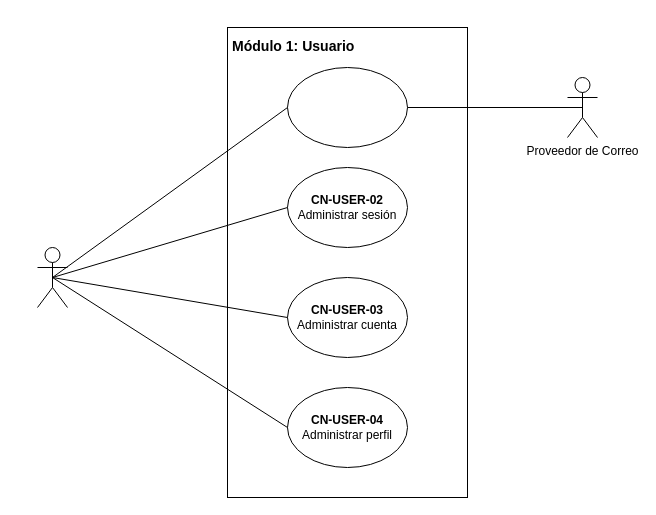
Some shapes in this 656 by 515 pixel diagram are drawn without their labels. Here are the shapes that lost their labels. From the top down, the centre of each, then its label:
the point at 347,107: CN-USER-01 Registrar cuenta nueva
the point at 52,277: Usuario Final
